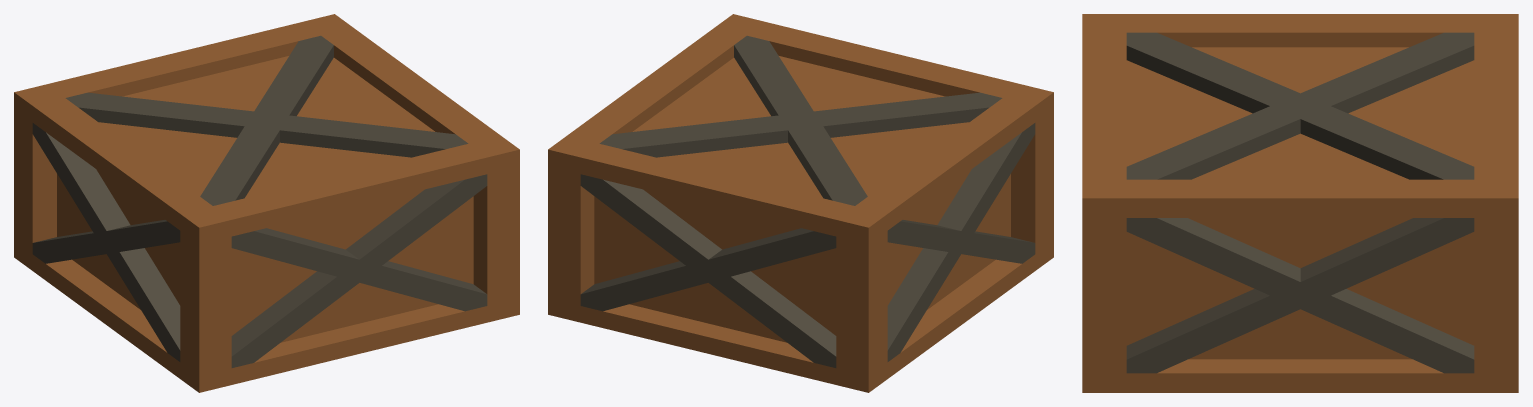
The model's file is Wooden Box.fbx.
3 renders of one model, left to right at view 1: azimuth 30°, elevation 25°; view 2: azimuth 150°, elevation 25°; view 3: azimuth 270°, elevation 25°, orthographic. The views are drawn at different scales.
Parts seen in each view (by area): view 1: Wooden box; view 2: Wooden box; view 3: Wooden box.
Part boxes in pixels (left/top/right/bottom): Wooden box: left=14, top=14, right=519, bottom=392; Wooden box: left=548, top=14, right=1053, bottom=392; Wooden box: left=1082, top=14, right=1518, bottom=392.
Bounding box in the file's own units: 101 × 49.96 × 101.
